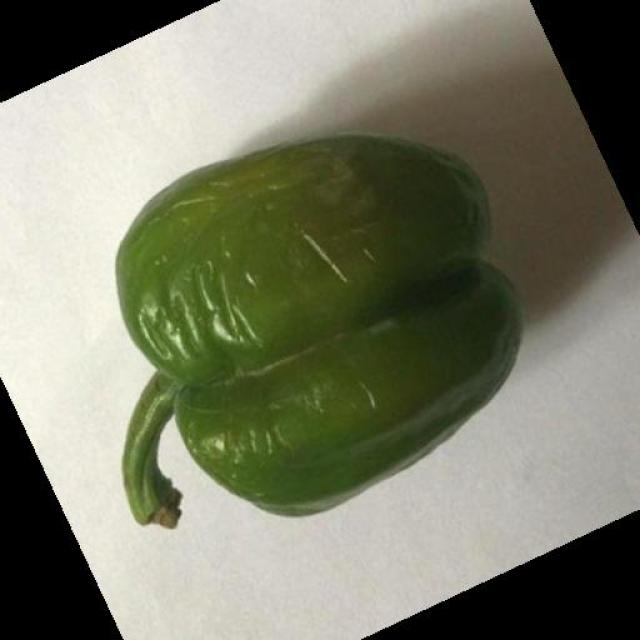Stale_Capsicum: (102, 129, 494, 483)
